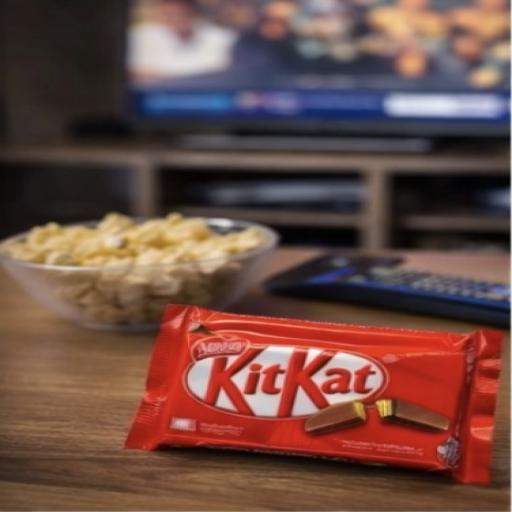kitkat: (92, 248, 512, 504)
